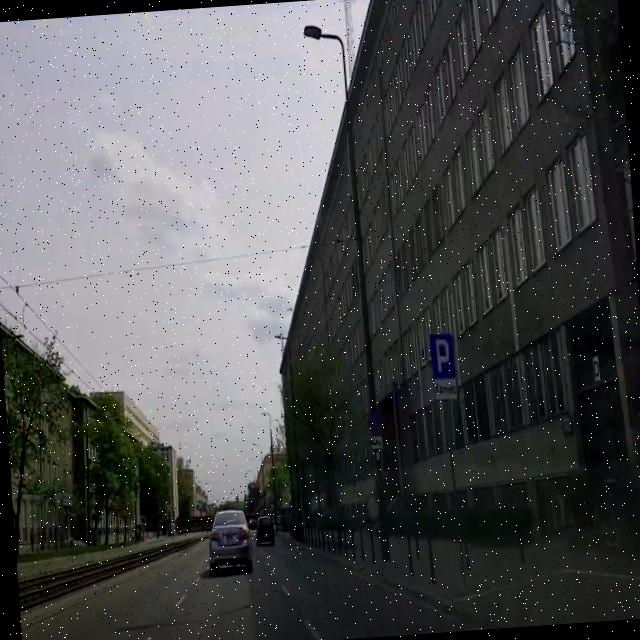Zakaz zatrzymywania sie: (365, 407, 382, 436)
